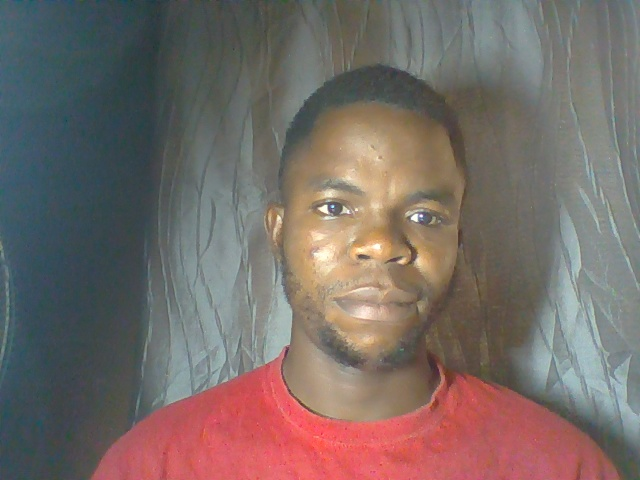MaskOff: (259, 61, 473, 414)
